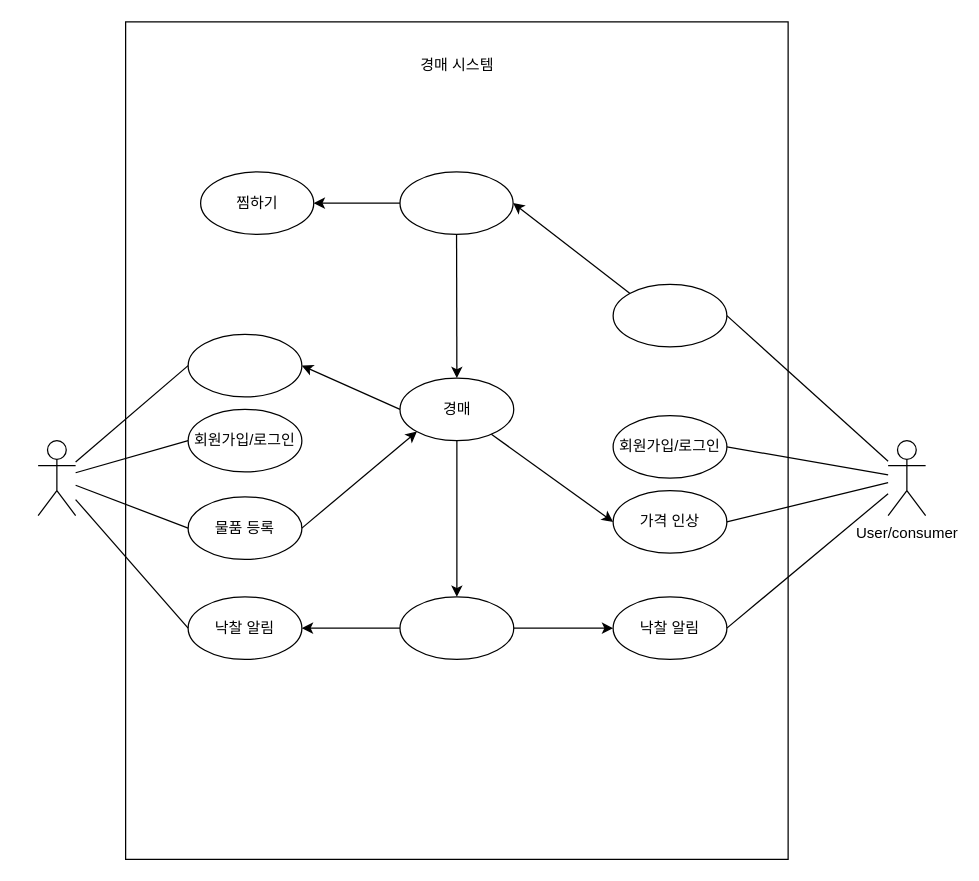
The diagram is 979 pixels wide and 881 high, and some of its shapes have lost their labels. The shapes that lost their labels are listed below. From the top down, each one's centre as x and y in pixels, then its label:
At point (456, 202): "물품 상세 조회".
At point (669, 315): "물품 조회".
At point (244, 365): "채팅하기".
At point (56, 477): "User/seller".
At point (456, 627): "낙찰".
